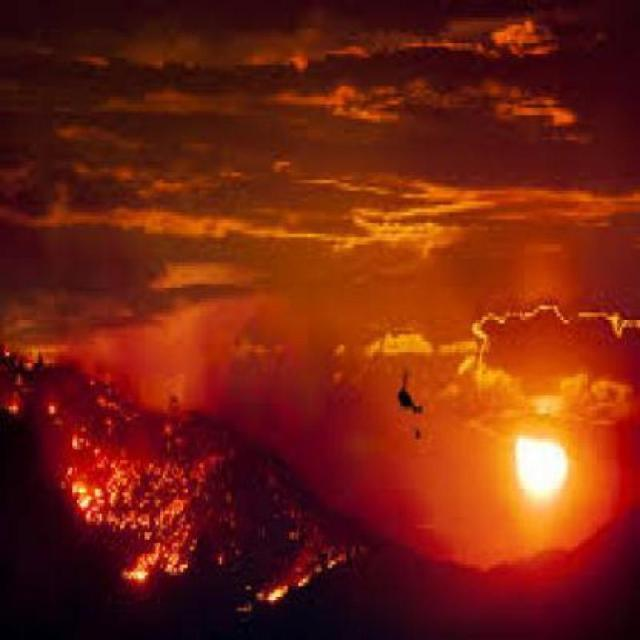Fire: (12, 301, 365, 640)
